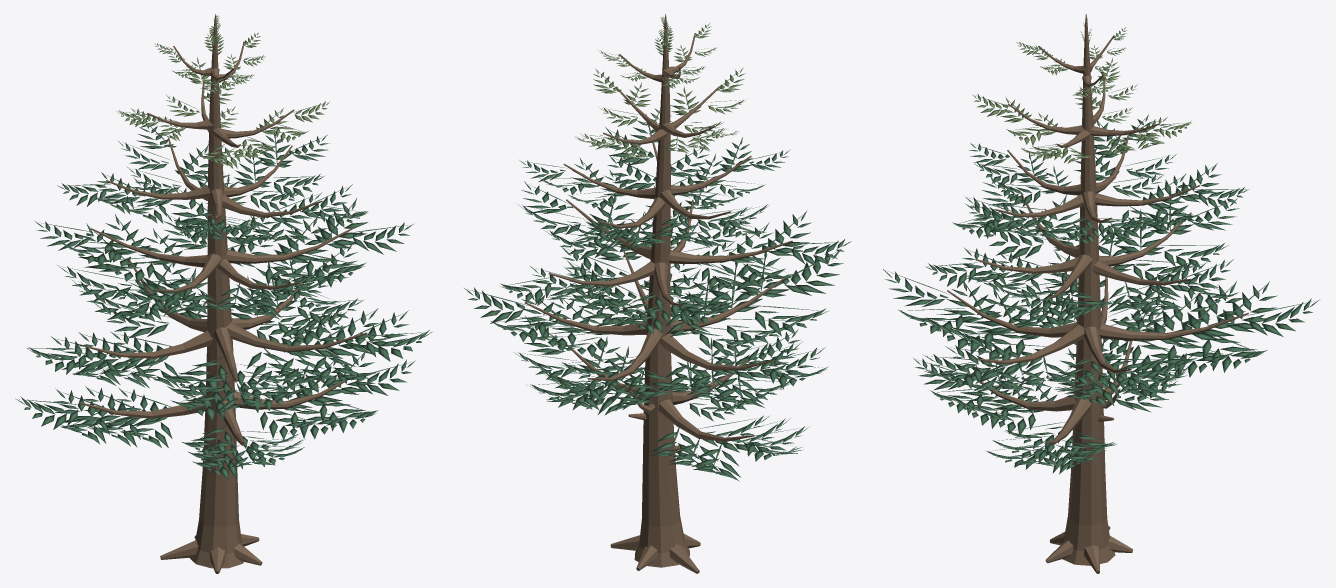
File: conifer-tree.glb
3 renders of one model, left to right at view 1: azimuth 30°, elevation 25°; view 2: azimuth 150°, elevation 25°; view 3: azimuth 270°, elevation 25°, orthographic.
Parts seen in each view (by area): view 1: Conifer | clustered narrow needle-bearing shoots, Conifer | editable woody axis boughs and collars; view 2: Conifer | clustered narrow needle-bearing shoots, Conifer | editable woody axis boughs and collars; view 3: Conifer | clustered narrow needle-bearing shoots, Conifer | editable woody axis boughs and collars.
Boxes of the visible parts, x1,y1,x2,y2 form: Conifer | clustered narrow needle-bearing shoots: (15,15,432,479); Conifer | editable woody axis boughs and collars: (79,14,367,573); Conifer | clustered narrow needle-bearing shoots: (464,17,851,481); Conifer | editable woody axis boughs and collars: (524,14,792,573); Conifer | clustered narrow needle-bearing shoots: (883,18,1320,474); Conifer | editable woody axis boughs and collars: (947,14,1248,573).
Bounding box in the file's own units: 4.7 × 7.04 × 5.22.
